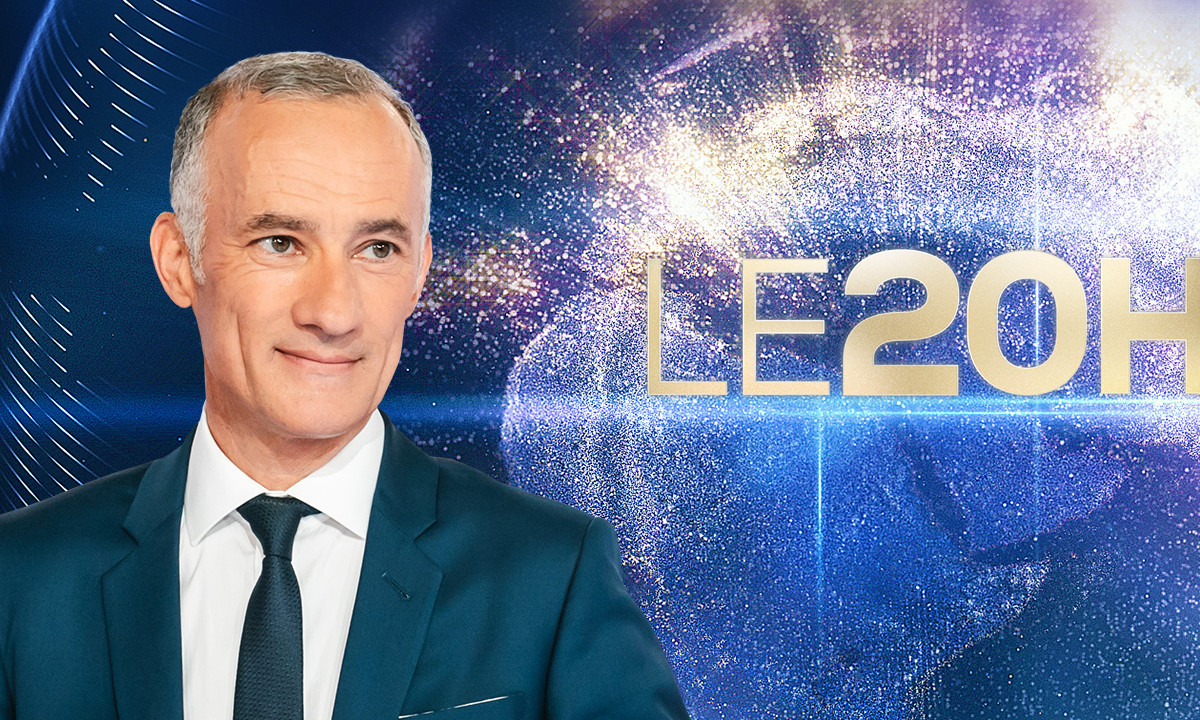without_mask: (185, 91, 419, 425)
